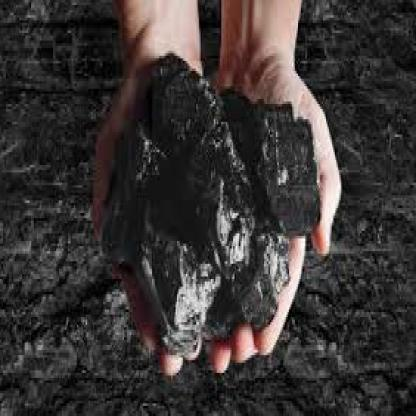Sedimentary_coal: (149, 51, 251, 266), (138, 213, 216, 343), (262, 91, 318, 238)
